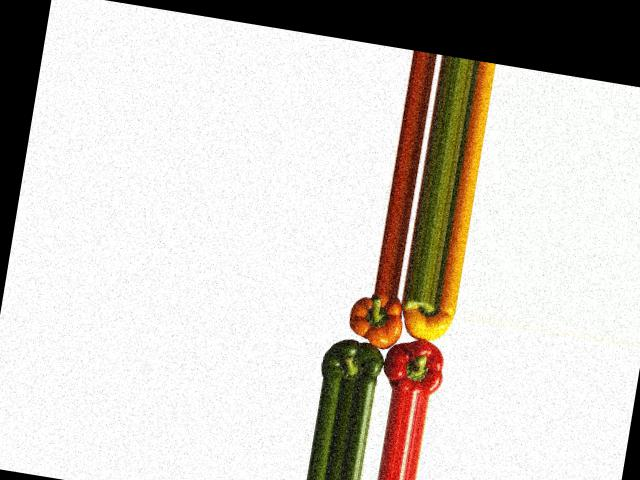bell_pepper: (393, 296, 457, 347)
